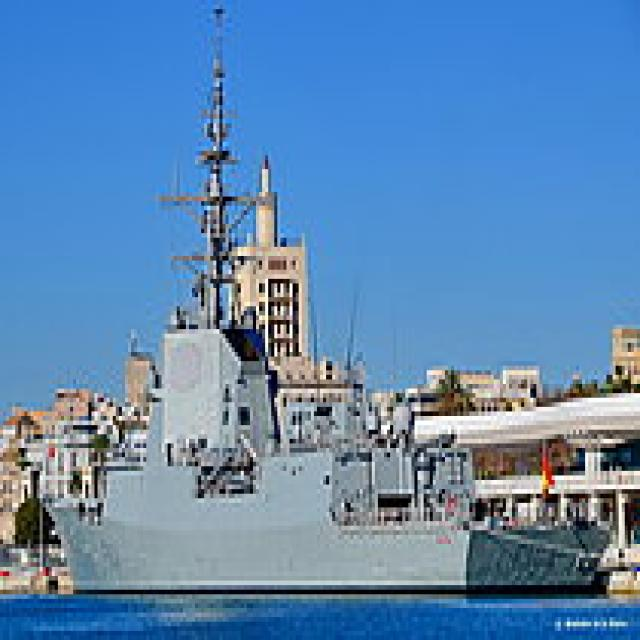Warship: (39, 0, 609, 594)
